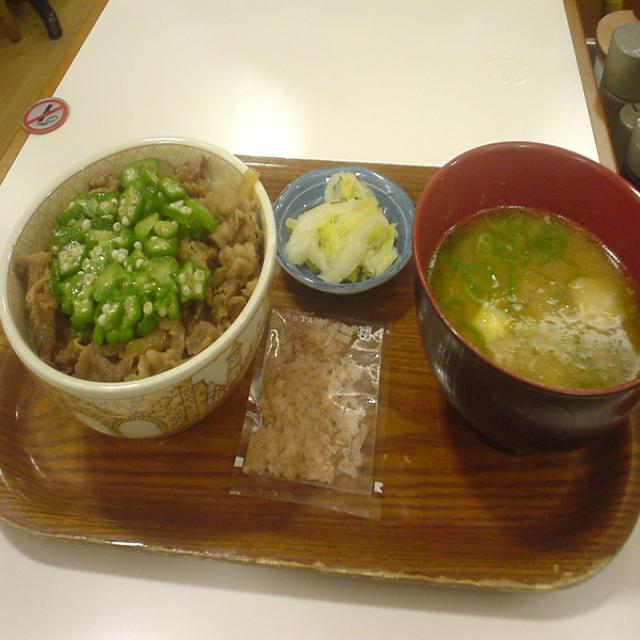汤锅炖物: (418, 156, 640, 432)
